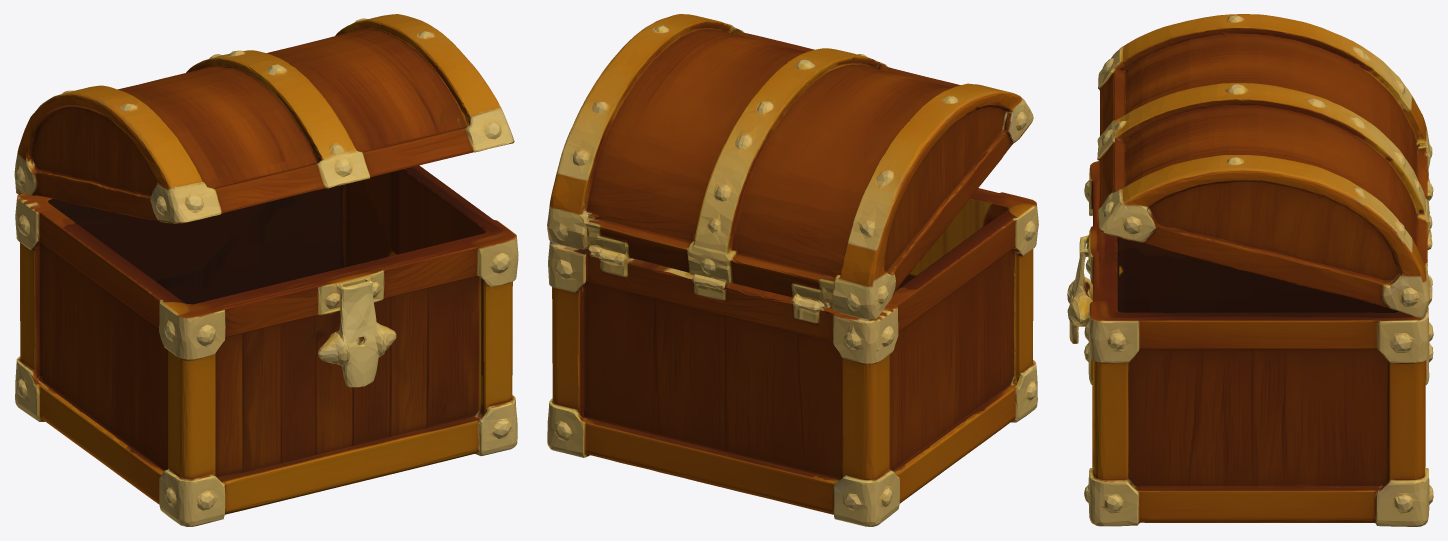
Rendered from chest.glb.
3 views of the same model, side by side, from view 1: azimuth 30°, elevation 25°; view 2: azimuth 150°, elevation 25°; view 3: azimuth 270°, elevation 25° (orthographic). The views are drawn at different scales.
Visible parts, largest first — view 1: textured_mesh.obj; view 2: textured_mesh.obj; view 3: textured_mesh.obj.
Part boxes in pixels (left/top/right/bottom): textured_mesh.obj: left=14, top=14, right=518, bottom=526; textured_mesh.obj: left=547, top=14, right=1038, bottom=526; textured_mesh.obj: left=1067, top=14, right=1433, bottom=526.
Size of the model in its own units: 1.96 by 1.99 by 1.82.
Materials: 1 (1 with a texture image).
